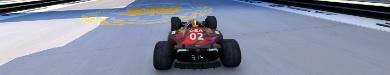Car: (152, 15, 242, 70)
